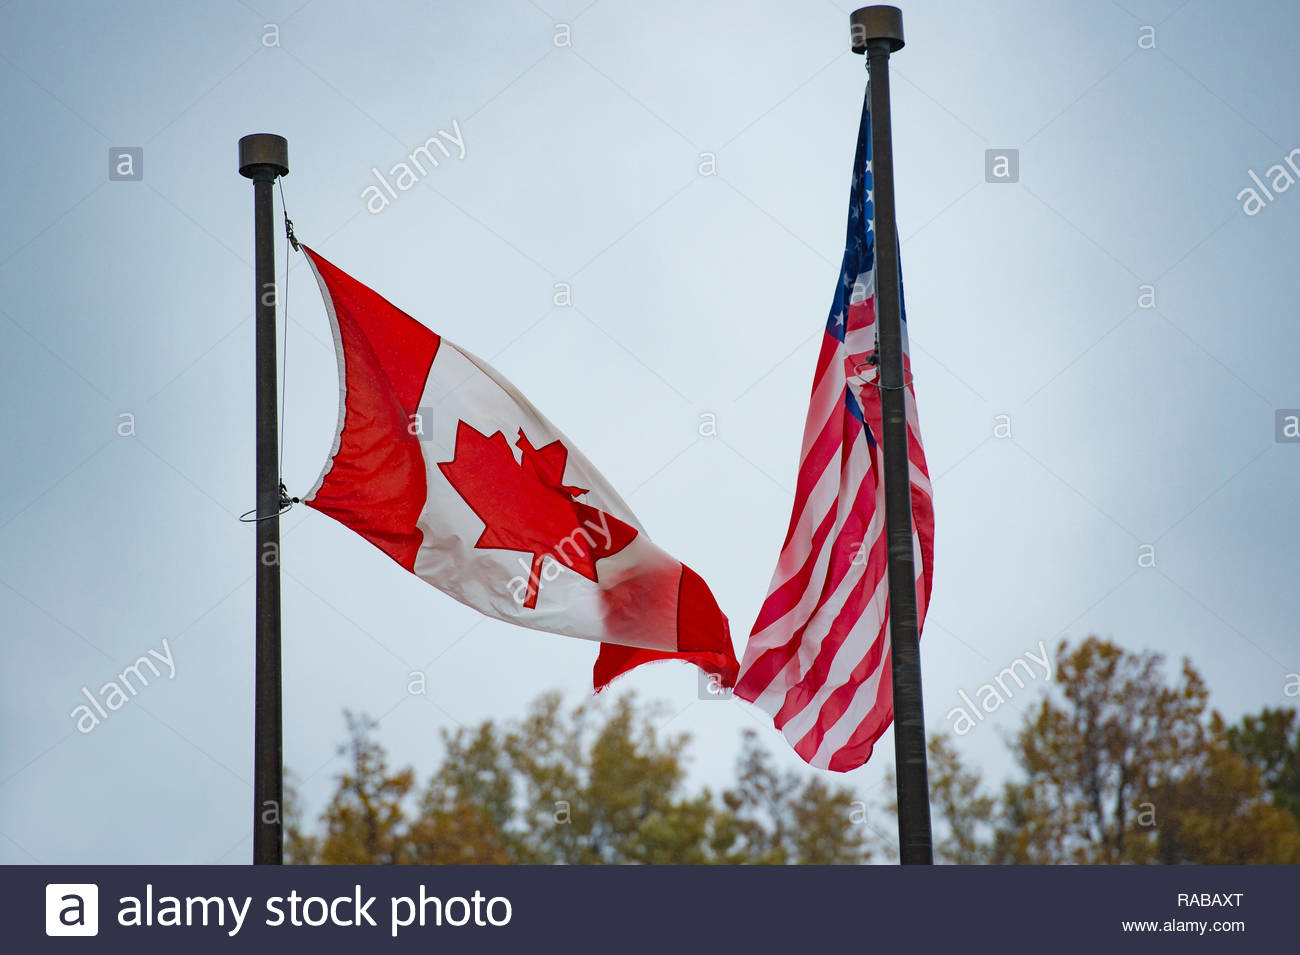Canada flag: (294, 242, 742, 708), (748, 79, 943, 767)
